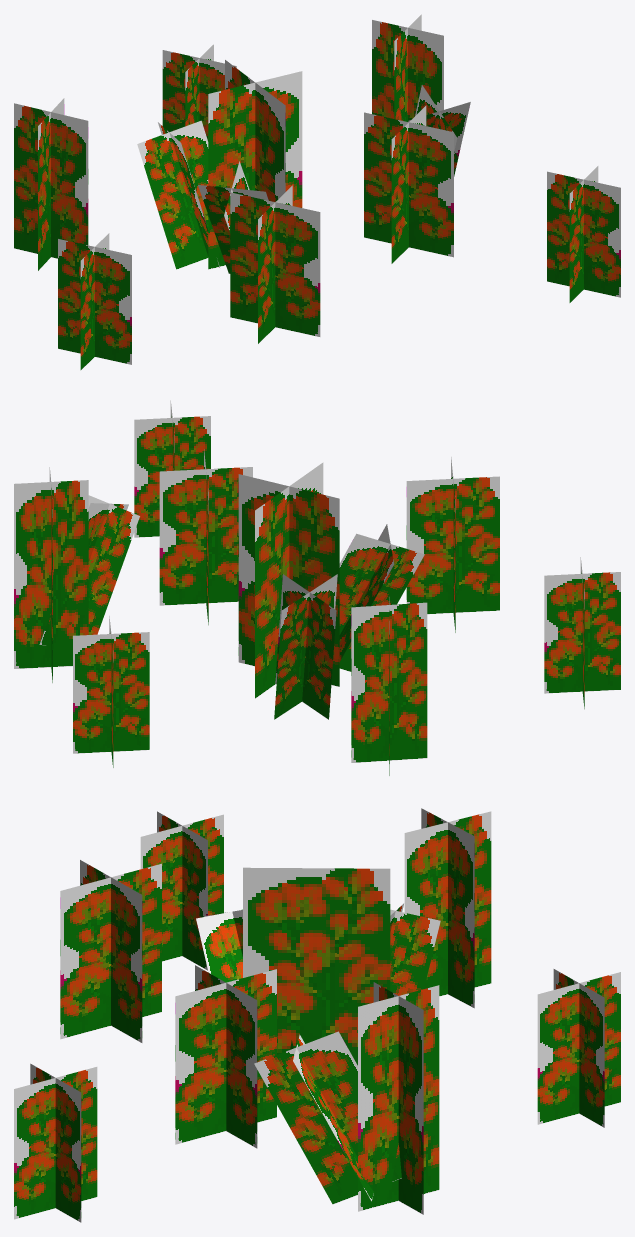
Rendered from flowers05.obj.
3 renders of one model, top to bottom at view 1: azimuth 30°, elevation 25°; view 2: azimuth 150°, elevation 25°; view 3: azimuth 270°, elevation 25°, orthographic. The views are drawn at different scales.
Visible parts, largest first — view 1: Duplicate11, Duplicate12, Duplicate09, Duplicate17, Duplicate16, Box03, Duplicate08, Duplicate10, Duplicate15, Duplicate07, Duplicate13, Duplicate14; view 2: Duplicate10, Duplicate11, Duplicate09, Duplicate12, Duplicate15, Duplicate17, Box03, Duplicate08, Duplicate07, Duplicate16, Duplicate13, Duplicate14; view 3: Duplicate07, Duplicate10, Duplicate11, Duplicate12, Duplicate09, Duplicate16, Duplicate15, Duplicate14, Duplicate17, Duplicate08, Duplicate13.
Boxes of the visible parts, <box> form: Duplicate11: <box>230,185,320,343</box>; Duplicate12: <box>364,105,453,263</box>; Duplicate09: <box>14,98,88,270</box>; Duplicate17: <box>58,233,131,370</box>; Duplicate16: <box>547,166,620,302</box>; Box03: <box>208,71,302,269</box>; Duplicate08: <box>137,120,219,269</box>; Duplicate10: <box>372,14,443,121</box>; Duplicate15: <box>162,44,236,141</box>; Duplicate07: <box>225,60,285,201</box>; Duplicate13: <box>198,161,268,273</box>; Duplicate14: <box>408,85,470,176</box>; Duplicate10: <box>14,467,88,683</box>; Duplicate11: <box>406,457,499,632</box>; Duplicate09: <box>351,597,427,775</box>; Duplicate12: <box>159,449,252,625</box>; Duplicate15: <box>73,616,149,767</box>; Duplicate17: <box>544,557,620,709</box>; Box03: <box>238,474,339,686</box>; Duplicate08: <box>274,574,337,719</box>; Duplicate07: <box>255,462,323,698</box>; Duplicate16: <box>134,400,210,537</box>; Duplicate13: <box>339,524,424,671</box>; Duplicate14: <box>39,495,139,645</box>; Duplicate07: <box>243,867,390,1065</box>; Duplicate10: <box>358,982,439,1214</box>; Duplicate11: <box>60,860,161,1042</box>; Duplicate12: <box>175,965,276,1148</box>; Duplicate09: <box>404,808,491,1008</box>; Duplicate16: <box>14,1063,97,1222</box>; Duplicate15: <box>537,969,620,1127</box>; Duplicate14: <box>254,1031,401,1204</box>; Duplicate17: <box>140,811,223,970</box>; Duplicate08: <box>390,903,440,995</box>; Duplicate13: <box>196,909,293,1049</box>.
Bounding box in the file's own units: 68.3 × 25.62 × 62.31.
